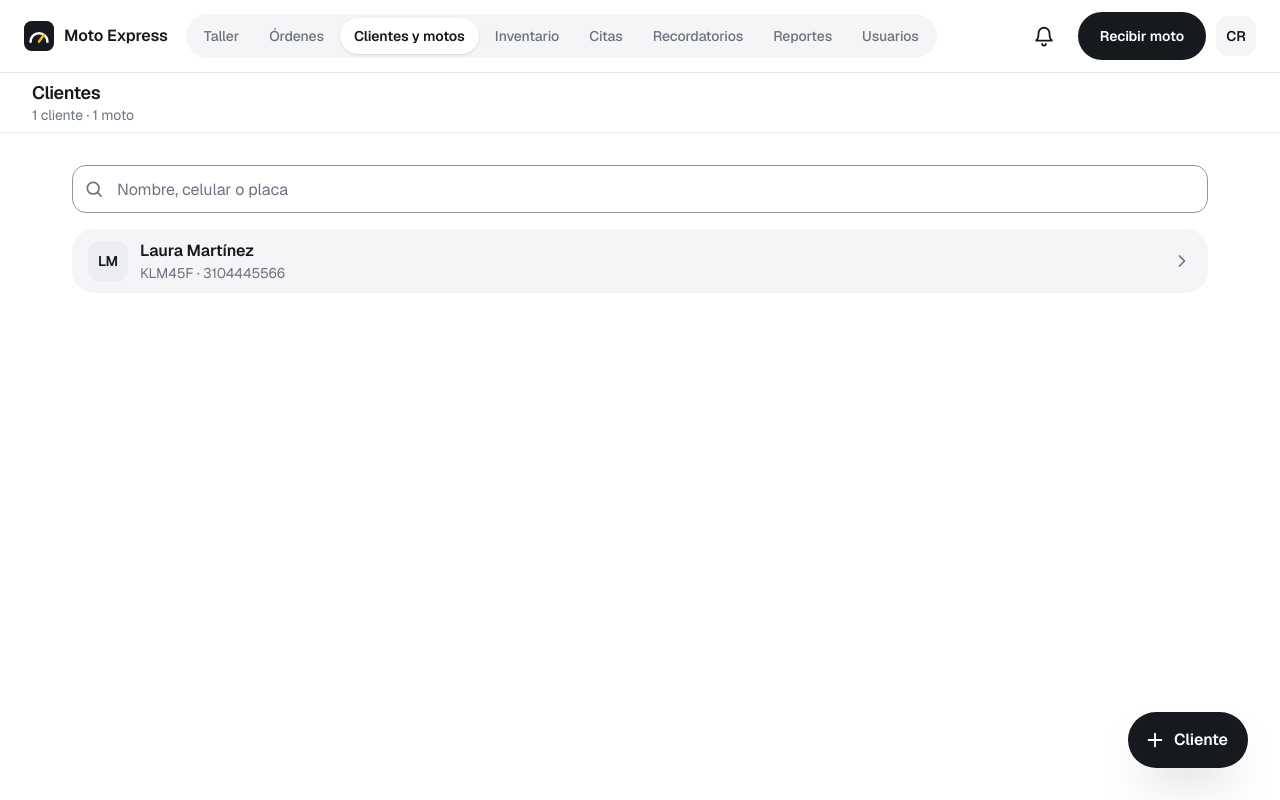
Test case: HU-24 · Registrar un cliente en el taller › un celular con letras se marca antes de enviar
The width and height of the screenshot is (1280, 800).
Click the button "Cliente": point(1188, 740) [1128,712,1248,768]
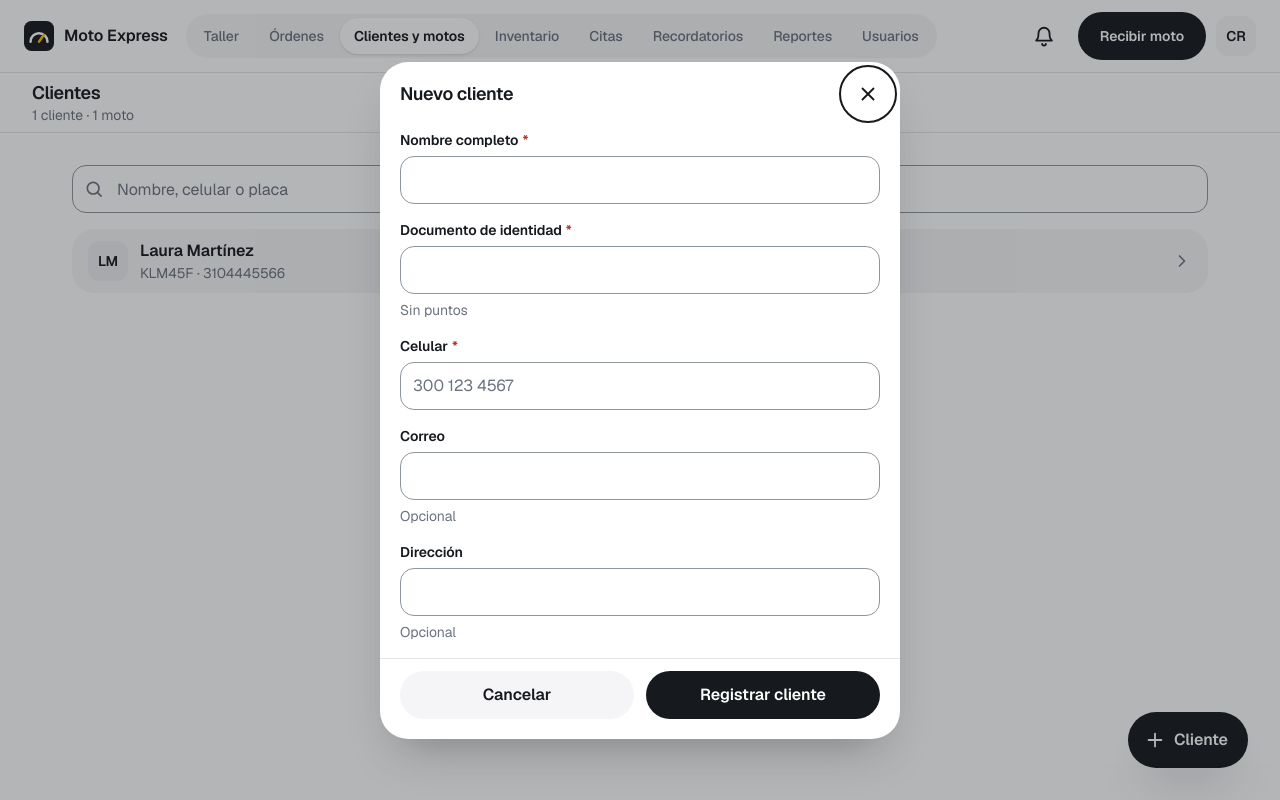
In the field labelled "Nombre completo*": point(640, 180) [400,156,880,204], type "Sofía Cardona"
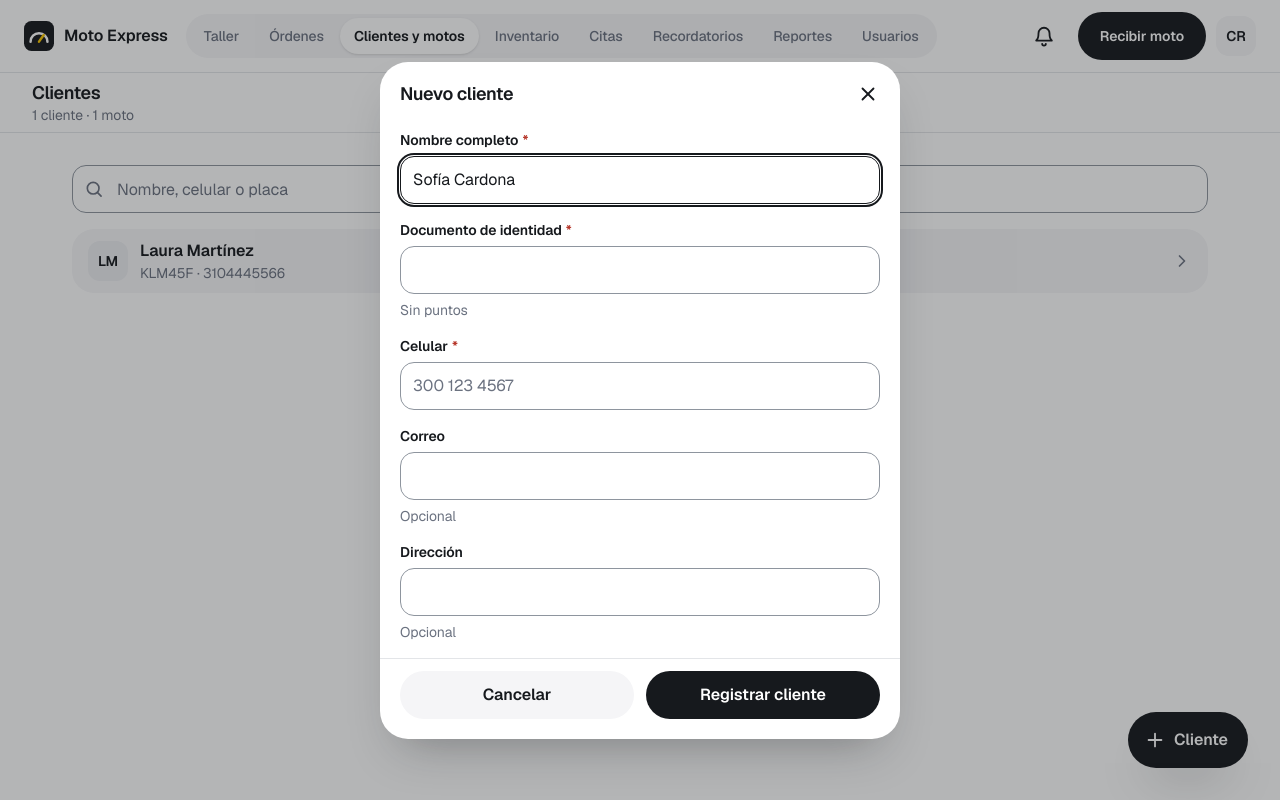
In the field labelled "Documento de identidad*": point(640, 270) [400,246,880,294], type "43987654"
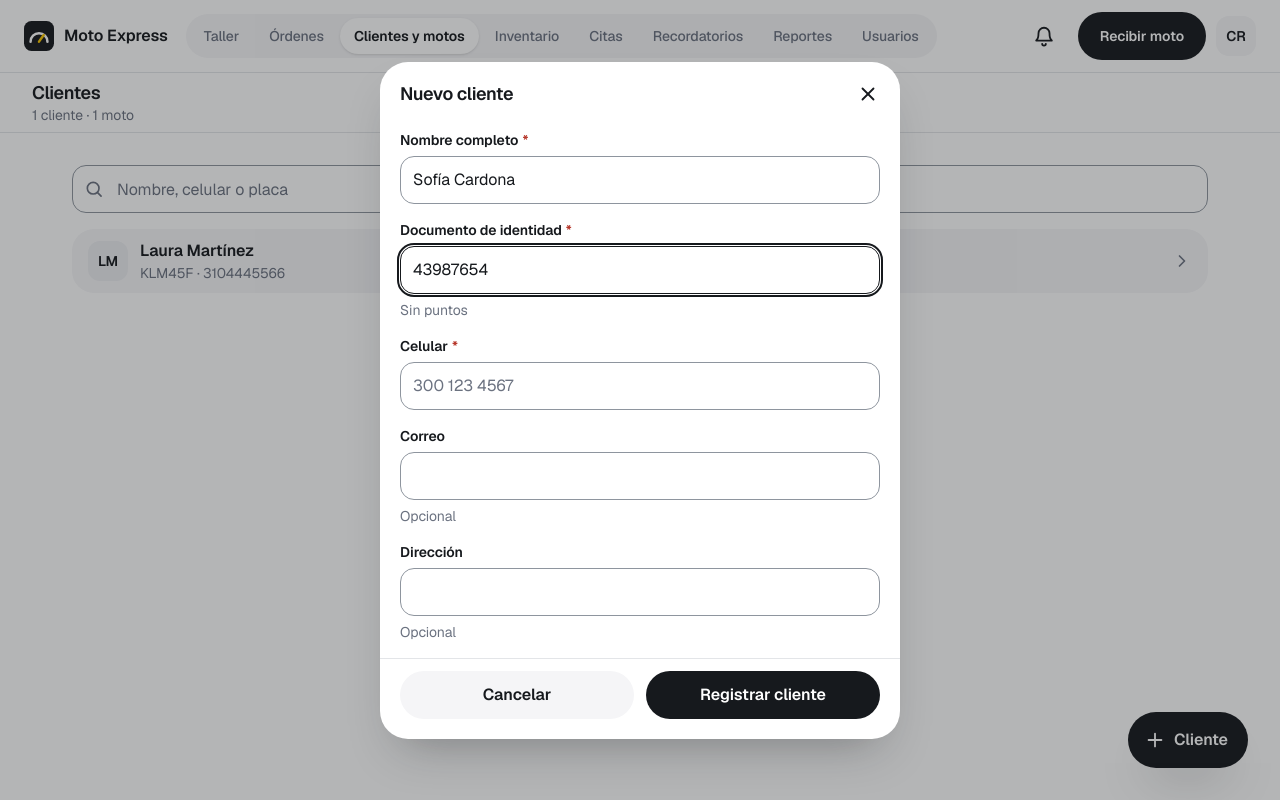
In the field labelled "Celular*": point(640, 386) [400,362,880,410], type "31266677AB"
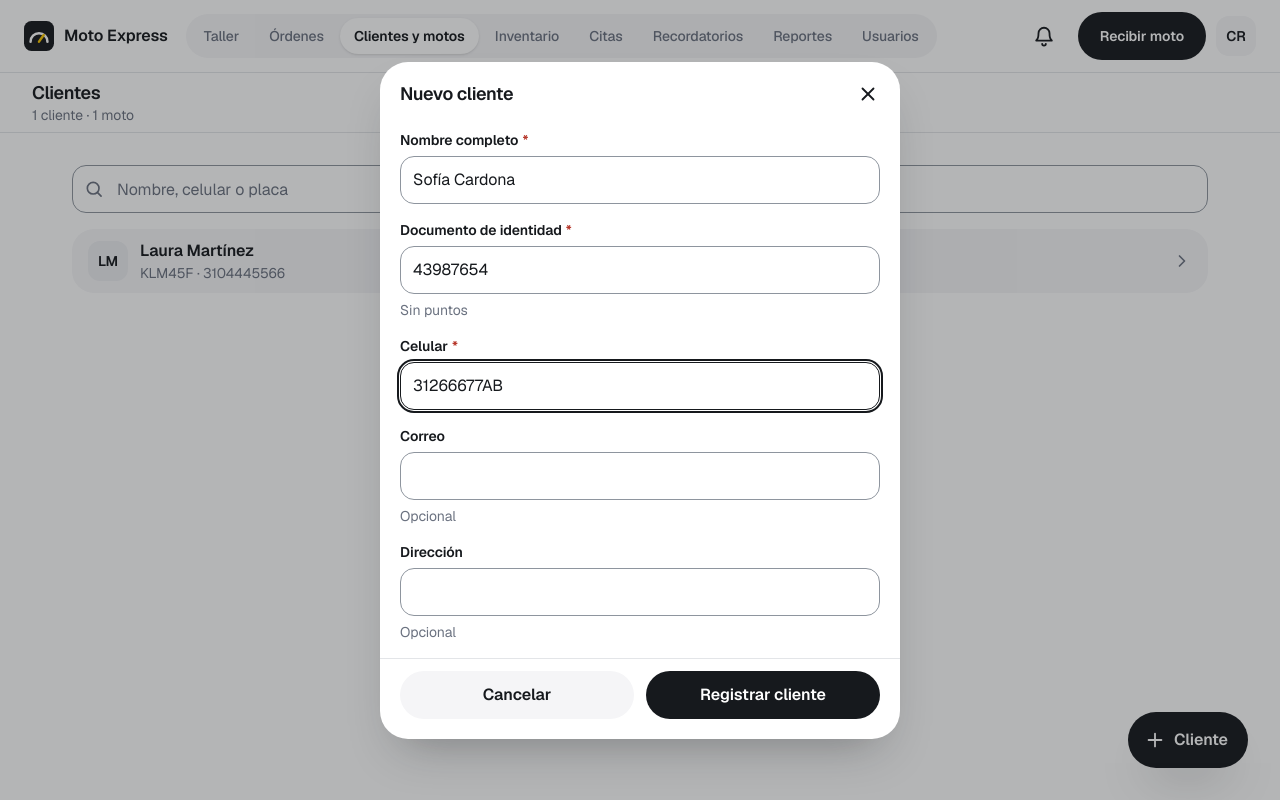
Click the button "Registrar cliente": point(763, 694) [646,670,880,718]
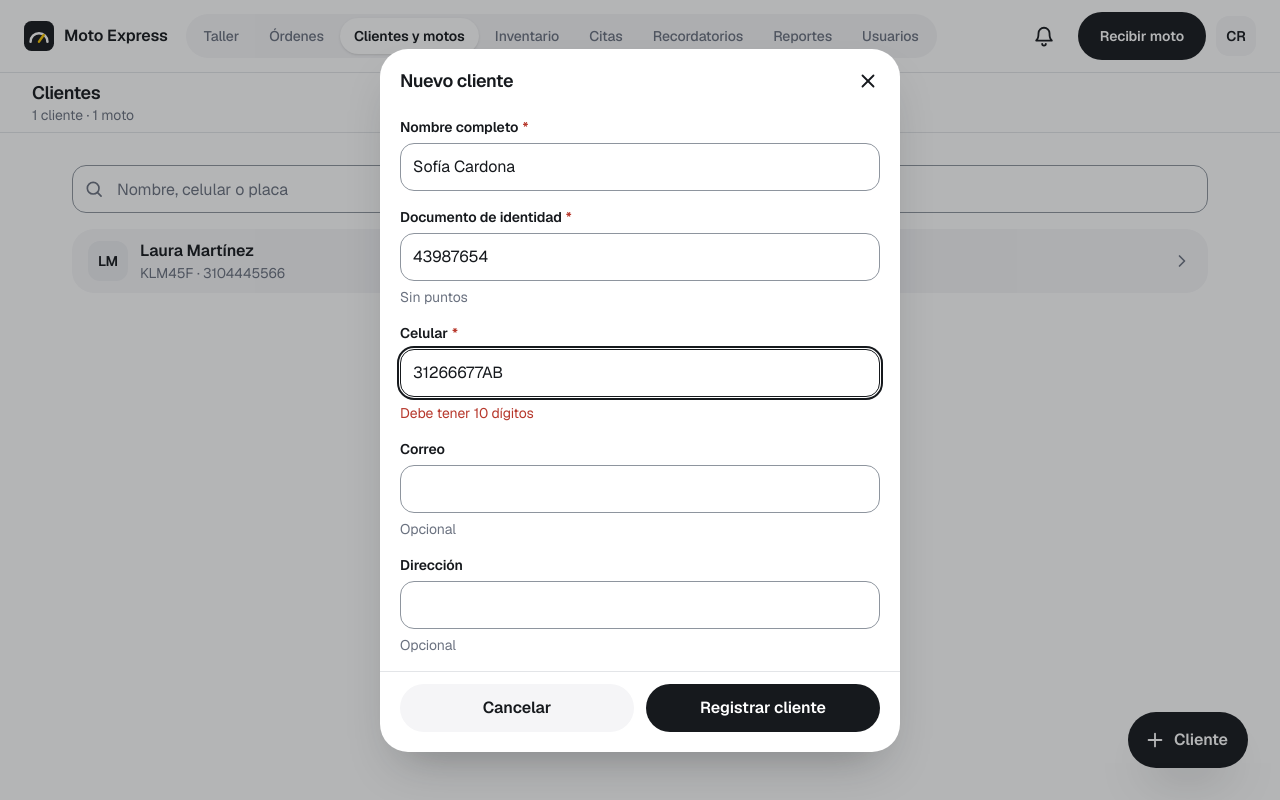
Check: the text "Debe tener 10 dígitos" is shown, box [400,404,534,422]
